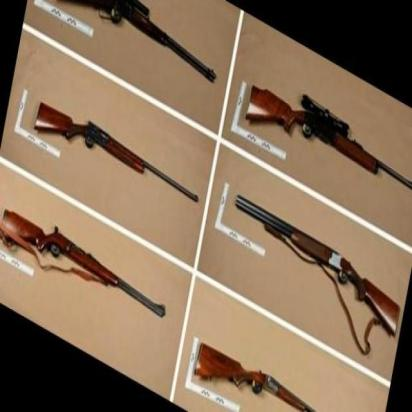Gun: (230, 188, 404, 336), (32, 70, 206, 218), (0, 190, 171, 338), (244, 66, 412, 214), (47, 0, 221, 93), (191, 333, 366, 412)
